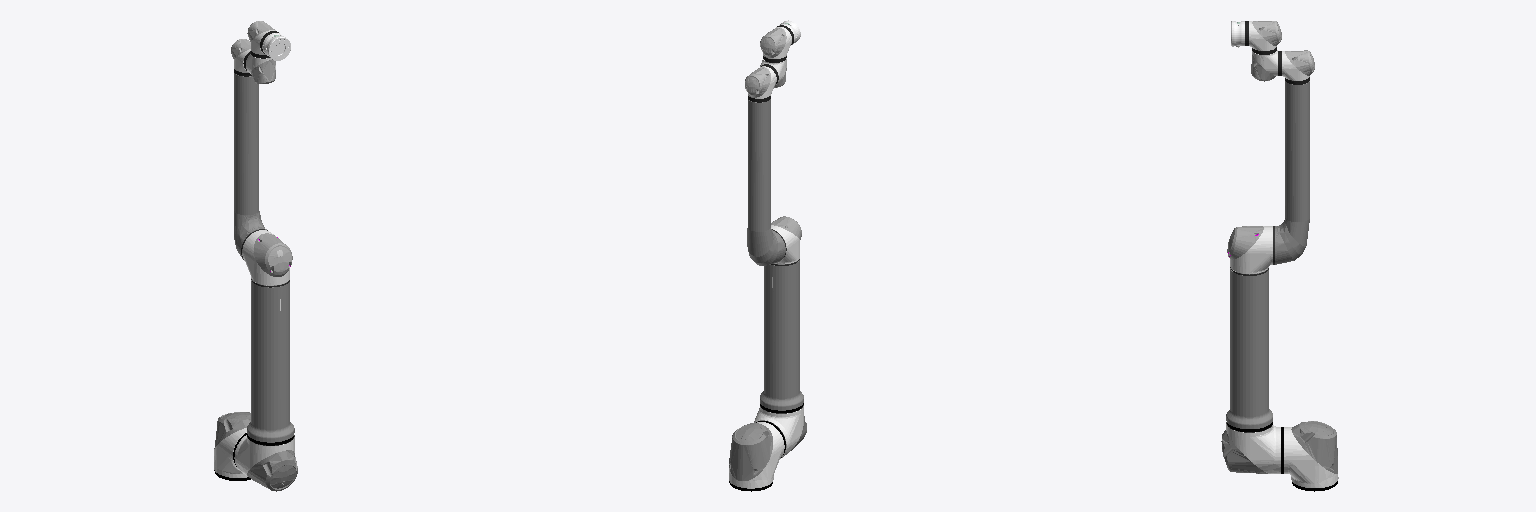
The robot description file, URDF, robot "rb20_1800e_u":
<?xml version="1.0" ?>
<!-- =================================================================================== -->
<!-- |    This document was autogenerated by xacro from rb20_1800e_u.urdf.xacro        | -->
<!-- |    EDITING THIS FILE BY HAND IS NOT RECOMMENDED                                 | -->
<!-- =================================================================================== -->
<robot name="rb20_1800e_u">
  <link name="link0">
    <visual>
      <geometry>
        <mesh filename="package://rbpodo_description/meshes/rb20_1800e_u/visual/link0.dae"/>
      </geometry>
    </visual>
    <collision>
      <geometry>
        <mesh filename="package://rbpodo_description/meshes/rb20_1800e_u/collision/link0.stl"/>
      </geometry>
    </collision>
  </link>
  <link name="link1">
    <visual>
      <geometry>
        <mesh filename="package://rbpodo_description/meshes/rb20_1800e_u/visual/link1.dae"/>
      </geometry>
    </visual>
    <collision>
      <geometry>
        <mesh filename="package://rbpodo_description/meshes/rb20_1800e_u/collision/link1.stl"/>
      </geometry>
    </collision>
    <inertial>
      <origin rpy="0 0 0" xyz="-0.000042 -0.009244 -0.056956"/>
      <mass value="16.468"/>
      <inertia ixx="0.094802941" ixy="-1.3925e-05" ixz="6.4576e-05" iyy="0.092251249" iyz="0.008441432" izz="0.073748476"/>
    </inertial>
  </link>
  <link name="link2">
    <visual>
      <geometry>
        <mesh filename="package://rbpodo_description/meshes/rb20_1800e_u/visual/link2.dae"/>
      </geometry>
    </visual>
    <collision>
      <geometry>
        <mesh filename="package://rbpodo_description/meshes/rb20_1800e_u/collision/link2.stl"/>
      </geometry>
    </collision>
    <inertial>
      <origin rpy="0 0 0" xyz="0.000029 0.038287 0.332417"/>
      <mass value="33.747"/>
      <inertia ixx="4.909489784" ixy="6.8741e-05" ixz="7.1185e-05" iyy="4.867973885" iyz="0.11546255" izz="0.183620047"/>
    </inertial>
  </link>
  <link name="link3">
    <visual>
      <geometry>
        <mesh filename="package://rbpodo_description/meshes/rb20_1800e_u/visual/link3.dae"/>
      </geometry>
    </visual>
    <collision>
      <geometry>
        <mesh filename="package://rbpodo_description/meshes/rb20_1800e_u/collision/link3.stl"/>
      </geometry>
    </collision>
    <inertial>
      <origin rpy="0 0 0" xyz="-0.000022 0.170556 0.382100"/>
      <mass value="8.402"/>
      <inertia ixx="0.801800545" ixy="8.172e-06" ixz="7.7278e-05" iyy="0.800242396" iyz="-0.00283844" izz="0.018264165"/>
    </inertial>
  </link>
  <link name="link4">
    <visual>
      <geometry>
        <mesh filename="package://rbpodo_description/meshes/rb20_1800e_u/visual/link4.dae"/>
      </geometry>
    </visual>
    <collision>
      <geometry>
        <mesh filename="package://rbpodo_description/meshes/rb20_1800e_u/collision/link4.stl"/>
      </geometry>
    </collision>
    <inertial>
      <origin rpy="0 0 0" xyz="0.000098 -0.126711 0.032313"/>
      <mass value="1.924"/>
      <inertia ixx="0.002587684" ixy="1.668e-06" ixz="1.1058e-05" iyy="0.002405925" iyz="0.000148422" izz="0.002057003"/>
    </inertial>
  </link>
  <link name="link5">
    <visual>
      <geometry>
        <mesh filename="package://rbpodo_description/meshes/rb20_1800e_u/visual/link5.dae"/>
      </geometry>
    </visual>
    <collision>
      <geometry>
        <mesh filename="package://rbpodo_description/meshes/rb20_1800e_u/collision/link5.stl"/>
      </geometry>
    </collision>
    <inertial>
      <origin rpy="0 0 0" xyz="-0.000098 -0.032313 0.126711"/>
      <mass value="1.924"/>
      <inertia ixx="0.002587684" ixy="1.1058e-05" ixz="1.668e-06" iyy="0.002057003" iyz="0.000148422" izz="0.002405925"/>
    </inertial>
  </link>
  <link name="link6">
    <visual>
      <geometry>
        <mesh filename="package://rbpodo_description/meshes/rb20_1800e_u/visual/link6.dae"/>
      </geometry>
    </visual>
    <collision>
      <geometry>
        <mesh filename="package://rbpodo_description/meshes/rb20_1800e_u/collision/link6.stl"/>
      </geometry>
    </collision>
    <inertial>
      <origin rpy="0 0 0" xyz="0.000164 -0.099056 -0.000008"/>
      <mass value="0.677"/>
      <inertia ixx="0.000871591" ixy="-2.55e-07" ixz="9.83e-07" iyy="0.001160824" iyz="-2.581e-06" izz="0.000873779"/>
    </inertial>
  </link>
  <link name="tcp"/>
  <joint name="base" type="revolute">
    <origin rpy="0 0 0" xyz="0 0 0.241"/>
    <parent link="link0"/>
    <child link="link1"/>
    <axis xyz="0 0 1"/>
    <limit effort="10" lower="-3.14" upper="3.14" velocity="3.14"/>
  </joint>
  <joint name="shoulder" type="revolute">
    <origin rpy="0 0 0" xyz="0 -0.2545 0"/>
    <parent link="link1"/>
    <child link="link2"/>
    <axis xyz="0 1 0"/>
    <limit effort="10" lower="-3.14" upper="3.14" velocity="3.14"/>
  </joint>
  <joint name="elbow" type="revolute">
    <origin rpy="0 0 0" xyz="0 0 0.885"/>
    <parent link="link2"/>
    <child link="link3"/>
    <axis xyz="0 1 0"/>
    <limit effort="10" lower="-3.14" upper="3.14" velocity="3.14"/>
  </joint>
  <joint name="wrist1" type="revolute">
    <origin rpy="0 0 0" xyz="0 0.1875 0.7858"/>
    <parent link="link3"/>
    <child link="link4"/>
    <axis xyz="0 1 0"/>
    <limit effort="10" lower="-3.14" upper="3.14" velocity="3.14"/>
  </joint>
  <joint name="wrist2" type="revolute">
    <origin rpy="0 0 0" xyz="0 -0.1292 0"/>
    <parent link="link4"/>
    <child link="link5"/>
    <axis xyz="0 0 1"/>
    <limit effort="10" lower="-3.14" upper="3.14" velocity="3.14"/>
  </joint>
  <joint name="wrist3" type="revolute">
    <origin rpy="0 0 0" xyz="0 0 0.1292"/>
    <parent link="link5"/>
    <child link="link6"/>
    <axis xyz="0 1 0"/>
    <limit effort="10" lower="-3.14" upper="3.14" velocity="3.14"/>
  </joint>
  <joint name="tcp_joint" type="fixed">
    <origin rpy="0 0 0" xyz="0 -0.13 0"/>
    <parent link="link6"/>
    <child link="tcp"/>
  </joint>
  <ros2_control name="RBPodoHardwareInterface" type="system">
    <hardware>
      <plugin>mock_components/GenericSystem</plugin>
      <param name="mock_sensor_commands">False</param>
      <param name="state_following_offset">0.0</param>
    </hardware>
    <joint name="base">
      <param name="initial_position">0.0</param>
      <param name="torque_constant">1</param>
      <command_interface name="effort"/>
      <command_interface name="velocity"/>
      <command_interface name="position"/>
      <state_interface name="position"/>
      <state_interface name="effort"/>
    </joint>
    <joint name="shoulder">
      <param name="initial_position">0.0</param>
      <param name="torque_constant">1</param>
      <command_interface name="effort"/>
      <command_interface name="velocity"/>
      <command_interface name="position"/>
      <state_interface name="position"/>
      <state_interface name="effort"/>
    </joint>
    <joint name="elbow">
      <param name="initial_position">0.0</param>
      <param name="torque_constant">1</param>
      <command_interface name="effort"/>
      <command_interface name="velocity"/>
      <command_interface name="position"/>
      <state_interface name="position"/>
      <state_interface name="effort"/>
    </joint>
    <joint name="wrist1">
      <param name="initial_position">0.0</param>
      <param name="torque_constant">1</param>
      <command_interface name="effort"/>
      <command_interface name="velocity"/>
      <command_interface name="position"/>
      <state_interface name="position"/>
      <state_interface name="effort"/>
    </joint>
    <joint name="wrist2">
      <param name="initial_position">0.0</param>
      <param name="torque_constant">1</param>
      <command_interface name="effort"/>
      <command_interface name="velocity"/>
      <command_interface name="position"/>
      <state_interface name="position"/>
      <state_interface name="effort"/>
    </joint>
    <joint name="wrist3">
      <param name="initial_position">0.0</param>
      <param name="torque_constant">1</param>
      <command_interface name="effort"/>
      <command_interface name="velocity"/>
      <command_interface name="position"/>
      <state_interface name="position"/>
      <state_interface name="effort"/>
    </joint>
  </ros2_control>
</robot>

--- Render facts (derived) ---
The picture shows the robot from 3 angles, left to right: view 1: azimuth 30°, elevation 25°; view 2: azimuth 150°, elevation 25°; view 3: azimuth 270°, elevation 25°; orthographic projection.
Model rb20_1800e_u with 8 links and 7 joints (6 revolute, 1 fixed), rooted at link0, posed all joints at 0.
Visible links, largest first — view 1: link2, link3, link1, link4, link6, link5; view 2: link2, link3, link1, link5; view 3: link2, link3, link1, link5, link4.
Link boxes in pixels (x1=…): link2: x1=233, y1=229, x2=297, y2=491; link3: x1=231, y1=39, x2=266, y2=258; link1: x1=214, y1=412, x2=250, y2=480; link4: x1=243, y1=51, x2=275, y2=83; link6: x1=260, y1=31, x2=290, y2=60; link5: x1=247, y1=21, x2=275, y2=58; link2: x1=754, y1=216, x2=806, y2=458; link3: x1=745, y1=66, x2=785, y2=265; link1: x1=729, y1=422, x2=784, y2=491; link5: x1=760, y1=27, x2=791, y2=62; link2: x1=1221, y1=226, x2=1283, y2=473; link3: x1=1275, y1=50, x2=1314, y2=264; link1: x1=1284, y1=421, x2=1338, y2=491; link5: x1=1249, y1=21, x2=1281, y2=54; link4: x1=1251, y1=50, x2=1281, y2=81.
Size in the robot's own frame: 0.1864 by 0.4582 by 1.99 metres.
Meshes: 7 distinct files referenced, 6 mesh visuals loaded (6 Collada DAE); not drawn: 1 (reference not matched to a file when rendering).
